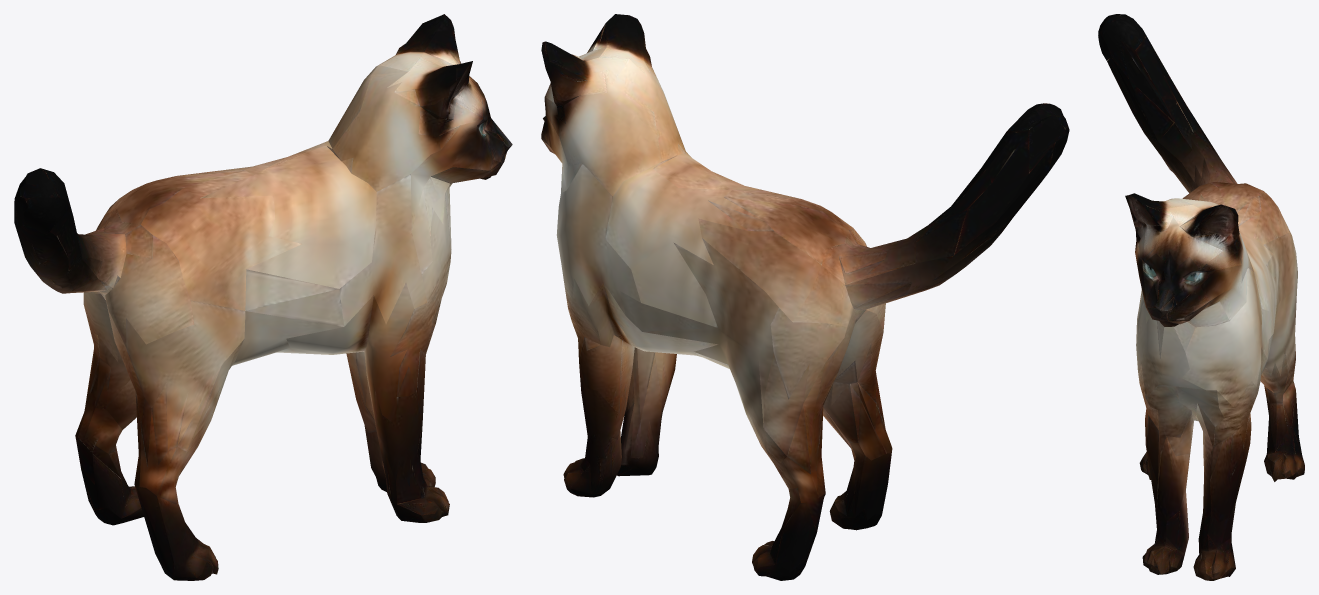
File: FDCW-lo.glb
3 views of the same model, side by side, from view 1: azimuth 30°, elevation 25°; view 2: azimuth 150°, elevation 25°; view 3: azimuth 270°, elevation 25° (orthographic). The views are drawn at different scales.
Visible parts, largest first — view 1: output_unwrapped; view 2: output_unwrapped; view 3: output_unwrapped.
Boxes of the visible parts, <box> form: output_unwrapped: <box>14,14,512,580</box>; output_unwrapped: <box>541,14,1069,580</box>; output_unwrapped: <box>1098,14,1304,580</box>.
Size of the model in its own units: 1.17 by 1 by 0.4835.
1 material, 1 textured.
